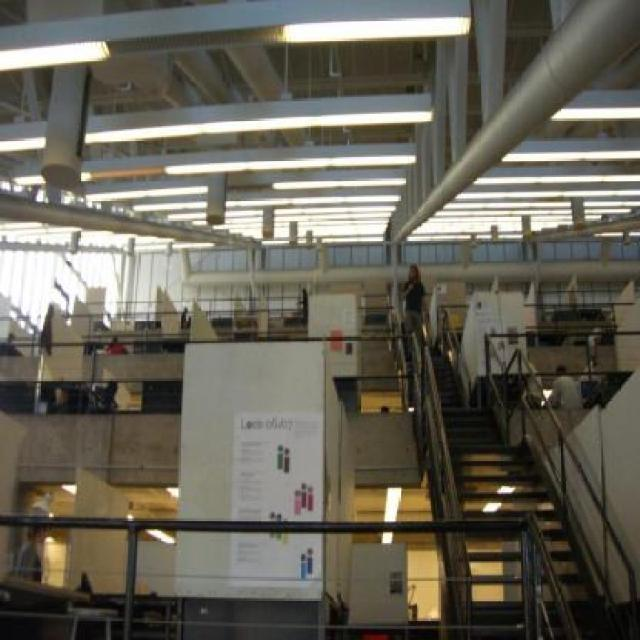stair: (415, 340, 623, 640)
